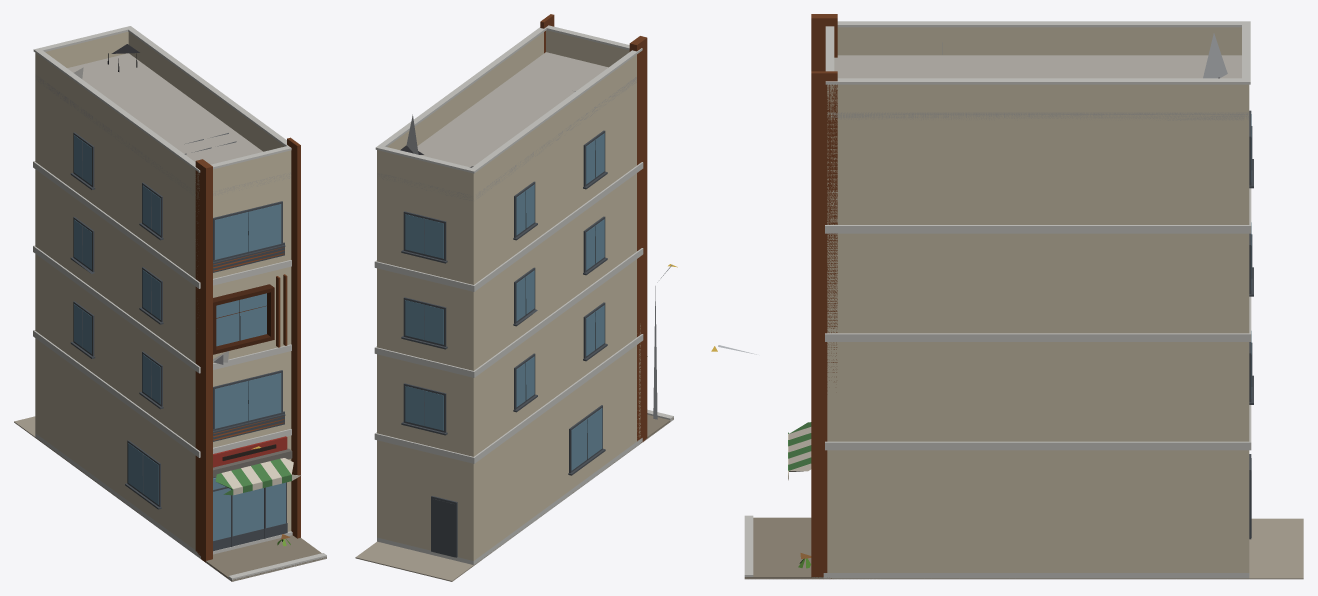
Rendered from bay2_left.glb.
3 renders of one model, left to right at view 1: azimuth 30°, elevation 25°; view 2: azimuth 150°, elevation 25°; view 3: azimuth 270°, elevation 25°, orthographic. The views are drawn at different scales.
Parts seen in each view (by area): view 1: body; view 2: body; view 3: body.
Boxes of the visible parts, x1,y1,x2,y2 form: body: (14, 26, 326, 581); body: (355, 14, 673, 581); body: (718, 14, 1303, 579).
Bounding box in the file's own units: 4.42 × 17.08 × 16.88.
